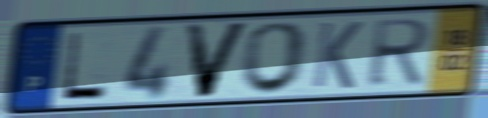4: (122, 23, 174, 103)
K: (309, 19, 365, 91)
L: (58, 29, 110, 102)
O: (237, 19, 313, 97)
R: (365, 16, 434, 91)
V: (182, 19, 254, 101)
